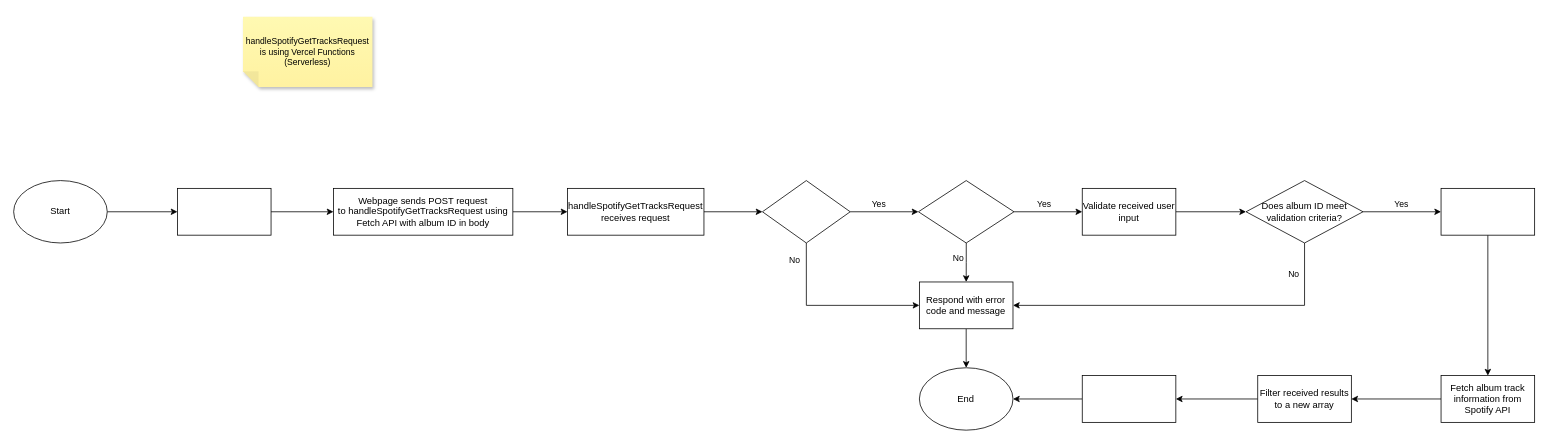
The diagram is 1548 pixels wide and 444 high, and some of its shapes have lost their labels. The shapes that lost their labels are listed below. From the top down, each one's centre as x and y in pixels, then its label:
At pixel 224 211: "User selects album".
At pixel 806 211: "Is request method POST?".
At pixel 966 211: "Did headers include user-agent?".
At pixel 1487 211: "Calls getSpotifyToken()".
At pixel 1128 398: "Respond with array data and render poster design".
